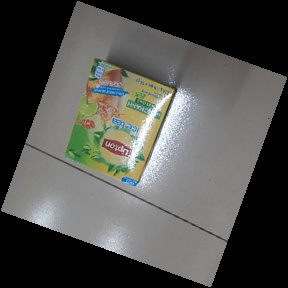LipTon: (65, 58, 176, 186)
